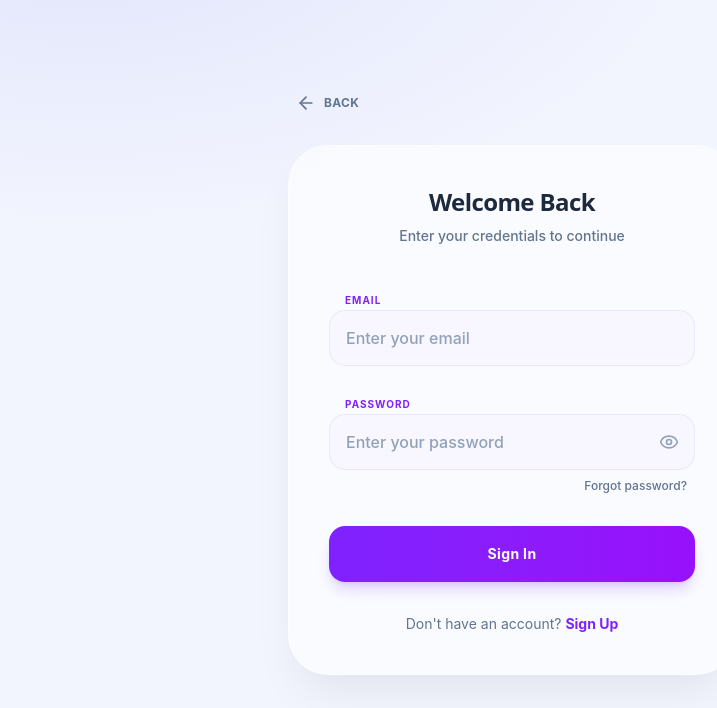
AuthForm › sends a reset email from the forgot-password form without asking for a password
This screenshot has width=717, height=708.
Click the button "Forgot password?".
click(636, 486)  # box [584, 478, 687, 494]
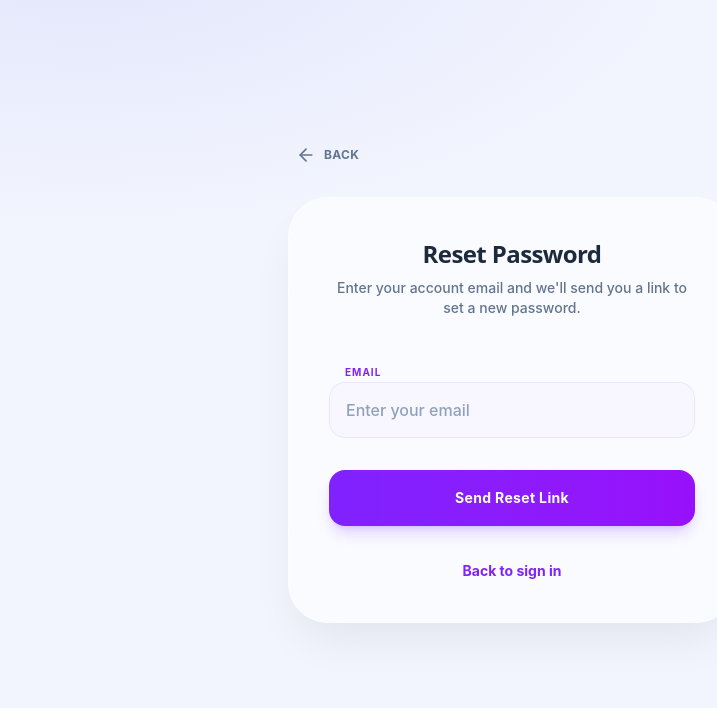
Expected: the heading "Reset Password" is shown, [423, 237, 601, 270]
Expected: the password field with placeholder "Enter your password" is gone
Type "forgot@example.com" into the field with placeholder "Enter your email".
click(512, 410); type("forgot@example.com")  # box [329, 382, 695, 438]
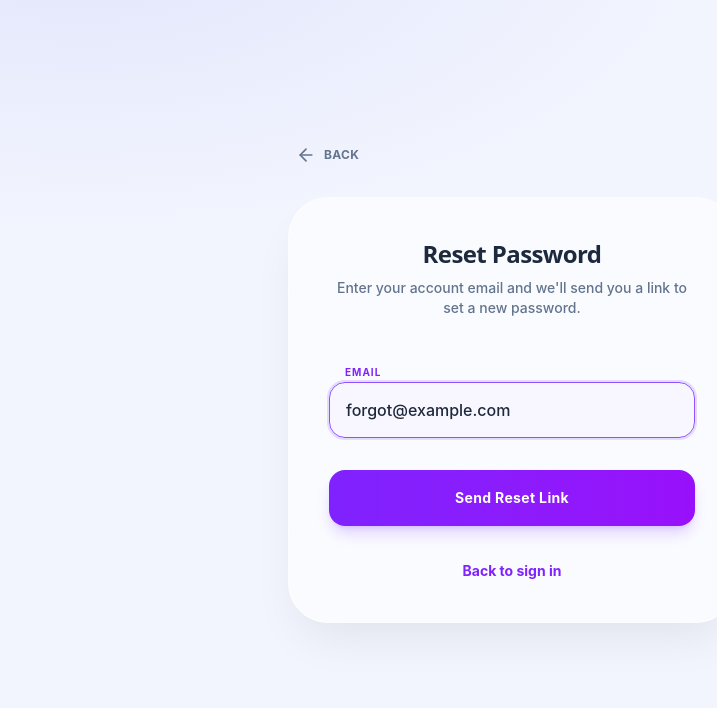
Click the button "Send Reset Link".
click(512, 498)  # box [329, 470, 695, 526]
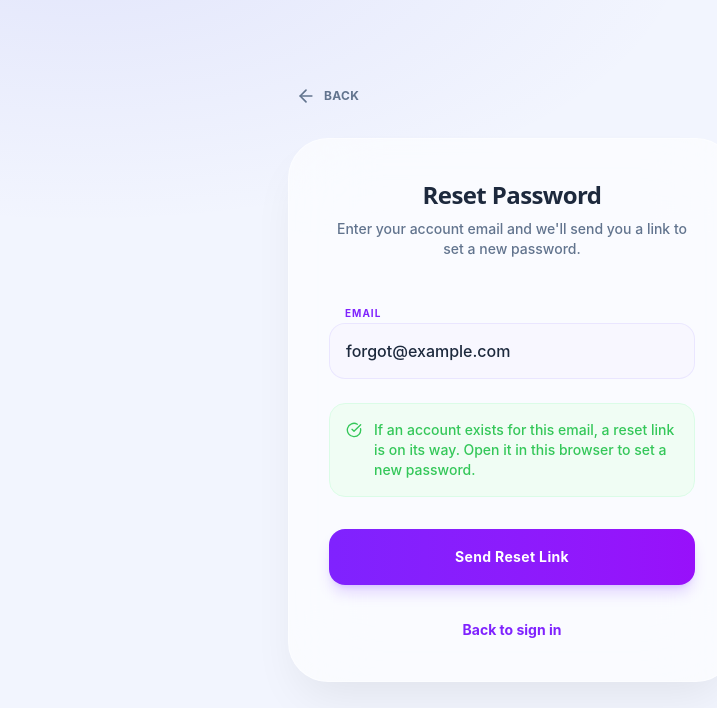
Expected: the message shows "If an account exists for this email", [374, 421, 674, 478]
Click the button "Back to sign in".
click(512, 630)  # box [462, 620, 562, 640]
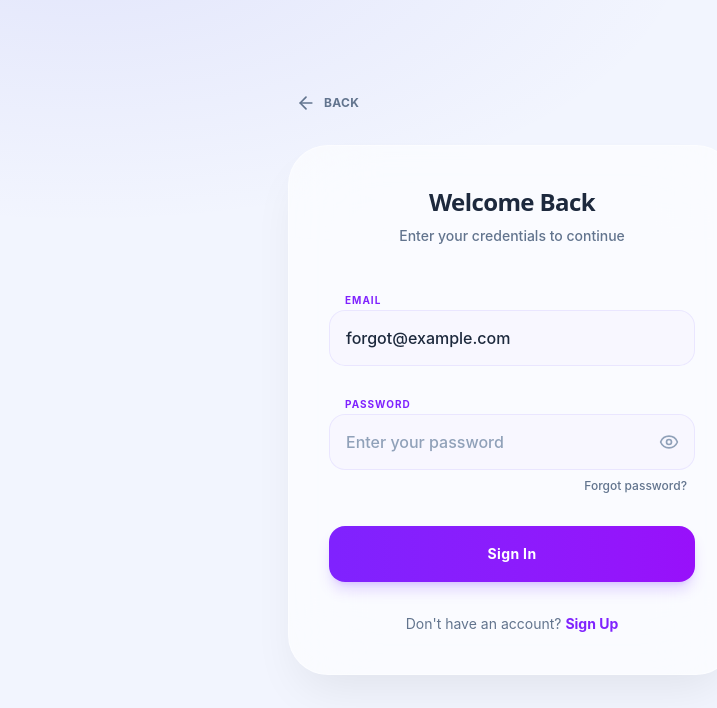
Expected: the password field with placeholder "Enter your password" is shown, [329, 414, 695, 470]
